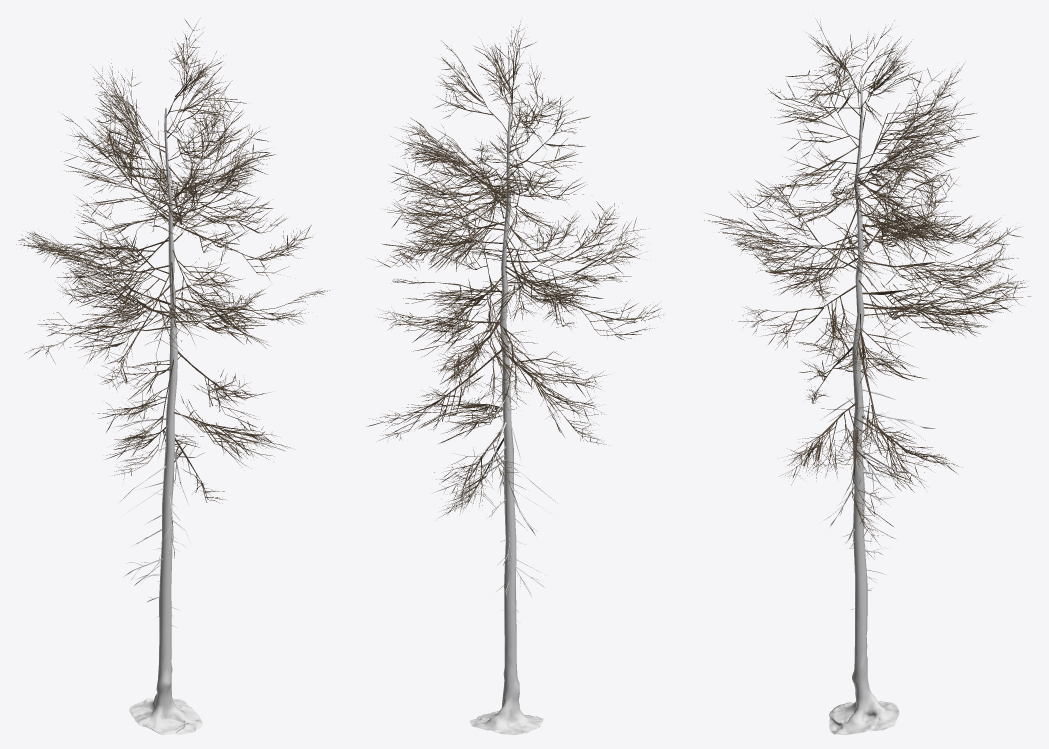
The model's file is Fir_1_LOD2.fbx.
The picture shows the model from 3 angles, left to right: view 1: azimuth 30°, elevation 25°; view 2: azimuth 150°, elevation 25°; view 3: azimuth 270°, elevation 25°; orthographic projection. The views are drawn at different scales.
Visible parts, largest first — view 1: Fir_1_LOD2; view 2: Fir_1_LOD2; view 3: Fir_1_LOD2.
Boxes of the visible parts, left/top/right/bottom form: Fir_1_LOD2: left=16, top=19, right=329, bottom=734; Fir_1_LOD2: left=366, top=21, right=663, bottom=734; Fir_1_LOD2: left=704, top=18, right=1030, bottom=734.
Bounding box in the file's own units: 552 × 1402 × 597.
